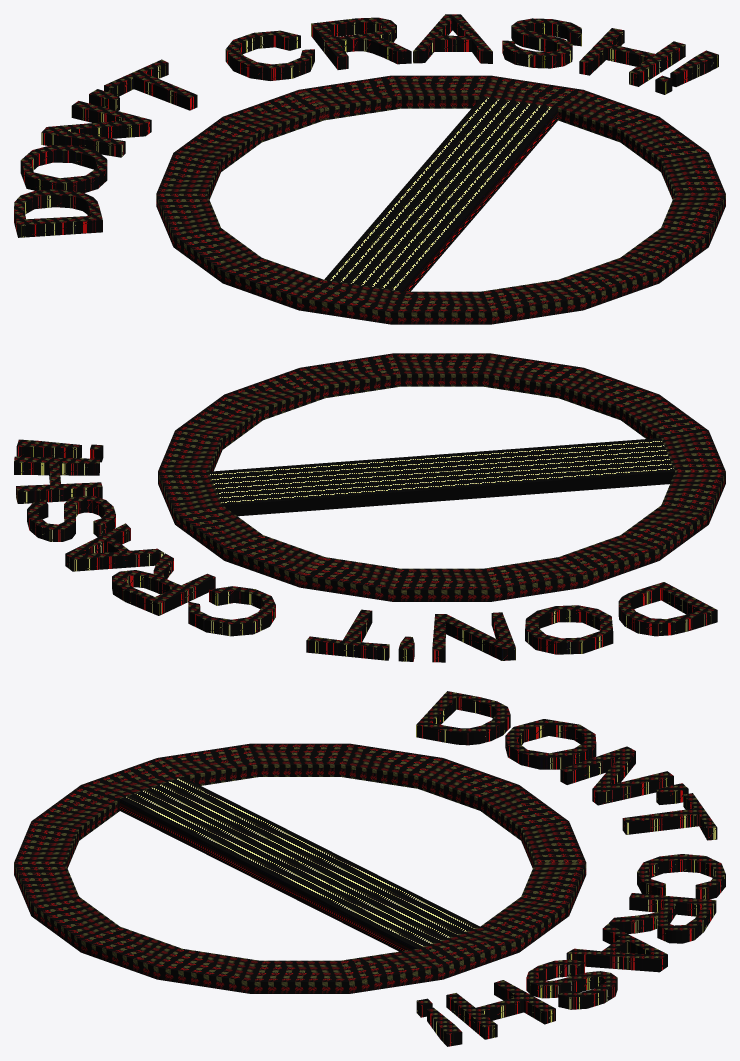
The model's file is crash.obj.
3 renders of one model, top to bottom at view 1: azimuth 30°, elevation 25°; view 2: azimuth 150°, elevation 25°; view 3: azimuth 270°, elevation 25°, orthographic.
Visible parts, largest first — view 1: Tube001; view 2: Tube001; view 3: Tube001.
Part boxes in pixels (box(x1,y1,x2,y2)): Tube001: box(14, 14, 725, 324); Tube001: box(14, 353, 725, 662); Tube001: box(14, 691, 725, 1046).
Bounding box in the file's own units: 59.91 × 1 × 52.46.
1 material, 1 textured.
